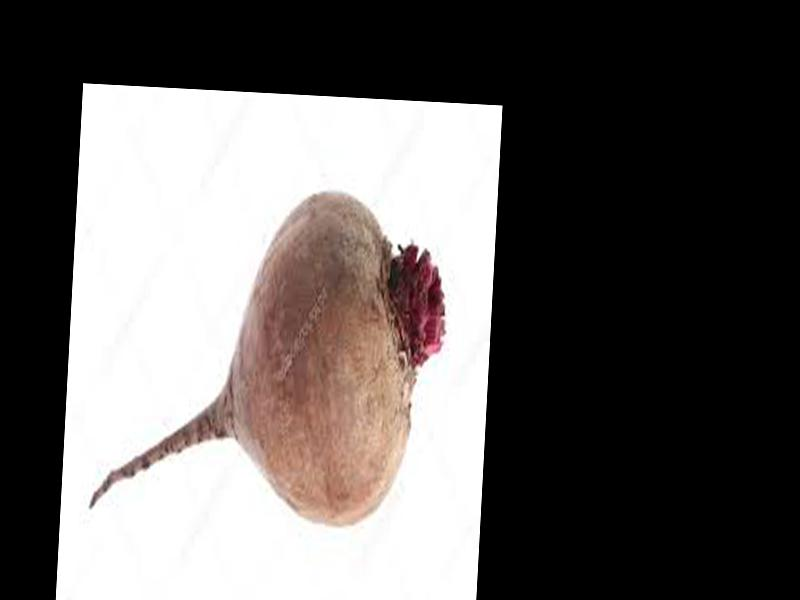Beet: (89, 173, 450, 532)
